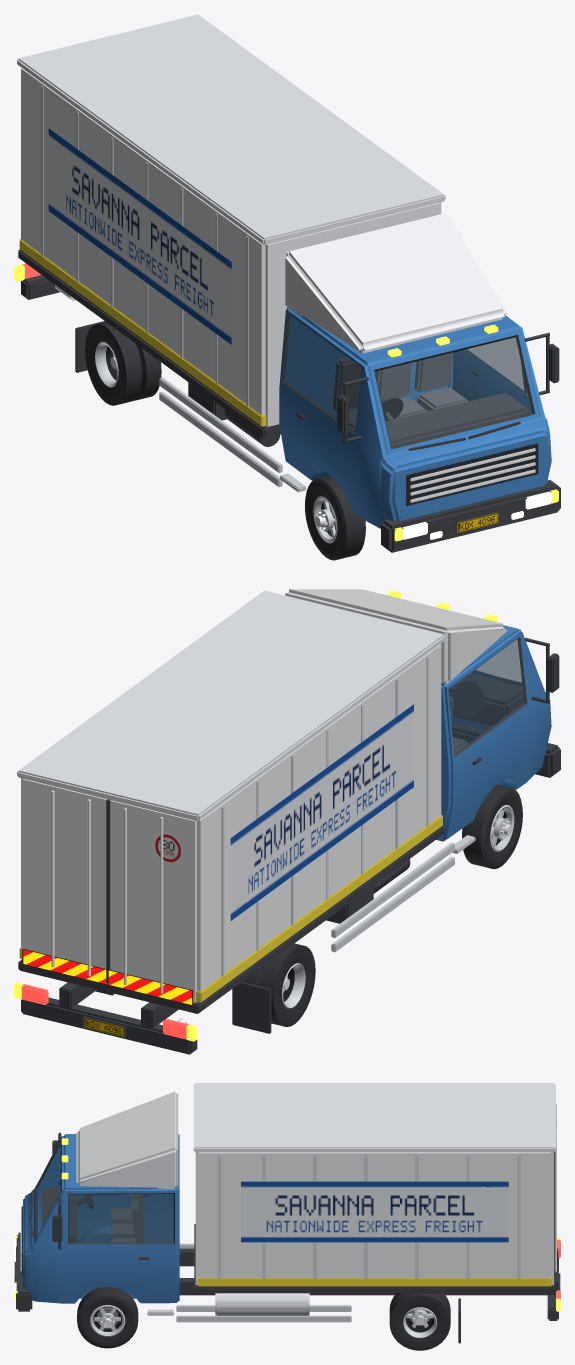
File: Savanna_Parcel_Lorry_FRR.glb
3 renders of one model, top to bottom at view 1: azimuth 30°, elevation 25°; view 2: azimuth 150°, elevation 25°; view 3: azimuth 270°, elevation 25°, orthographic. The views are drawn at different scales.
Visible parts, largest first — view 1: FreightRoofRail, Lorry_CabShell, FreightBoxBody, CabWindDeflector, ParcelBanner_1, Wheel_RR.001, TruckFrontBumper, Wheel_FR.001, TruckDash, SideYellowStrip, TruckGrilleDark, FreightFloorSub (+7 smaller); view 2: FreightBoxBody, FreightRoofRail, Lorry_CabShell, ParcelBanner_1, CabWindDeflector, FreightFloorSub, Wheel_FR.001, Wheel_RR.001, SideYellowStrip, RearUnderrunBar, RearChevronTex.001, TruckDash (+14 smaller); view 3: FreightBoxBody, FreightRoofRail, Lorry_CabShell, ParcelBanner_-1, CabWindDeflector, SideYellowStrip, Wheel_RL.001, Wheel_FL.001, FreightFloorSub, AluminumDieselTank, SideGuardBot_-1, ChassisRail_-0.54 (+8 smaller).
Boxes of the visible parts, x1,y1,x2,y2 form: FreightRoofRail: (17,14,445,245); Lorry_CabShell: (279,307,551,528); FreightBoxBody: (21,68,441,426); CabWindDeflector: (285,213,507,353); ParcelBanner_1: (48,128,231,344); Wheel_RR.001: (85,322,161,405); TruckFrontBumper: (381,480,560,552); Wheel_FR.001: (305,475,365,560); TruckDash: (386,392,529,447); SideYellowStrip: (19,239,266,426); TruckGrilleDark: (404,443,538,505); FreightFloorSub: (18,250,280,437); FreightBoxBody: (21,644,441,1002); FreightRoofRail: (17,590,445,821); Lorry_CabShell: (436,625,551,841); ParcelBanner_1: (230,704,413,920); CabWindDeflector: (285,589,507,684); FreightFloorSub: (18,825,444,1013); Wheel_FR.001: (462,784,522,869); Wheel_RR.001: (242,943,315,1026); SideYellowStrip: (19,815,442,1002); RearUnderrunBar: (21,997,197,1054); RearChevronTex.001: (22,948,192,1005); TruckDash: (448,673,524,725); FreightBoxBody: (195,1152,553,1284); FreightRoofRail: (193,1083,555,1152); Lorry_CabShell: (23,1134,179,1303); ParcelBanner_-1: (241,1181,508,1242); CabWindDeflector: (76,1091,178,1189); SideYellowStrip: (197,1276,551,1286); Wheel_RL.001: (389,1293,450,1350); Wheel_FL.001: (77,1286,138,1348); FreightFloorSub: (194,1224,555,1293); AluminumDieselTank: (215,1293,309,1315); SideGuardBot_-1: (176,1315,351,1322); ChassisRail_-0.54: (179,1278,558,1295).
Bounding box in the file's own units: 2.87 × 3.5 × 8.58.
Materials: 23 (4 with a texture image).
